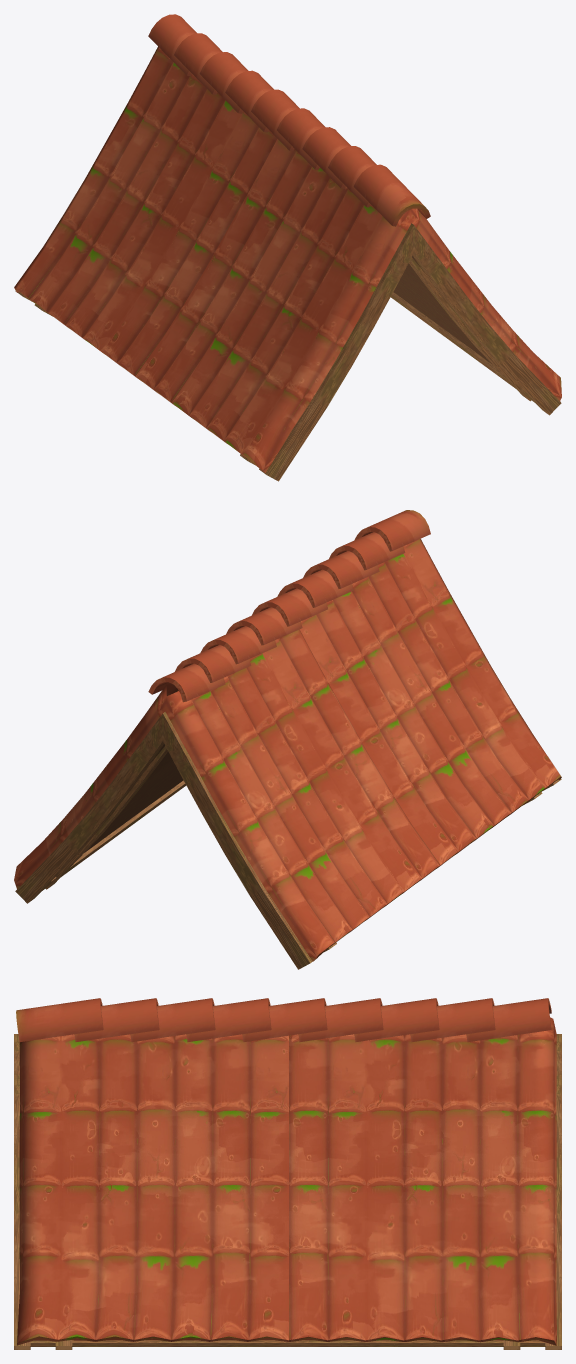
File: Roof_RoundTiles_4x6.gltf
3 views of the same model, one above another, from view 1: azimuth 30°, elevation 25°; view 2: azimuth 150°, elevation 25°; view 3: azimuth 270°, elevation 25° (orthographic). The views are drawn at different scales.
Parts seen in each view (by area): view 1: Roof_RoundTiles_4x6; view 2: Roof_RoundTiles_4x6; view 3: Roof_RoundTiles_4x6.
Boxes of the visible parts, <box> form: Roof_RoundTiles_4x6: <box>14,14,561,481</box>; Roof_RoundTiles_4x6: <box>14,510,561,969</box>; Roof_RoundTiles_4x6: <box>14,998,561,1349</box>.
Size of the model in its own units: 5.51 by 4.23 by 7.57.
Materials: 2 (2 with a texture image).
